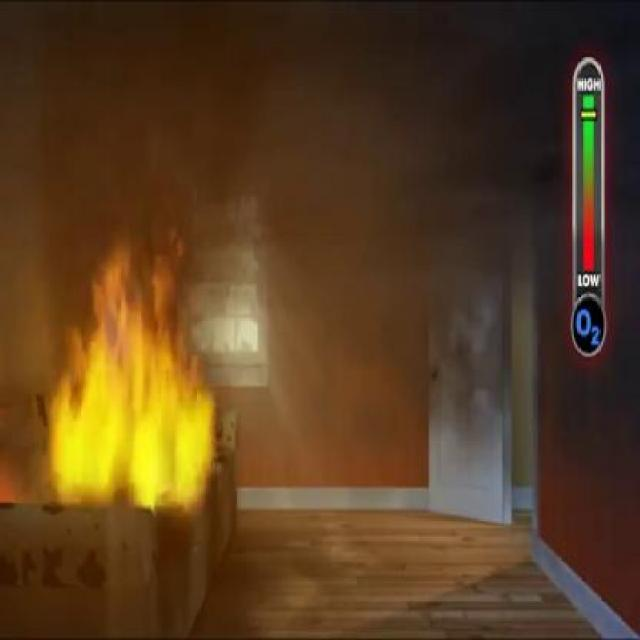fire: (58, 298, 227, 494)
smoke: (35, 5, 517, 270)
